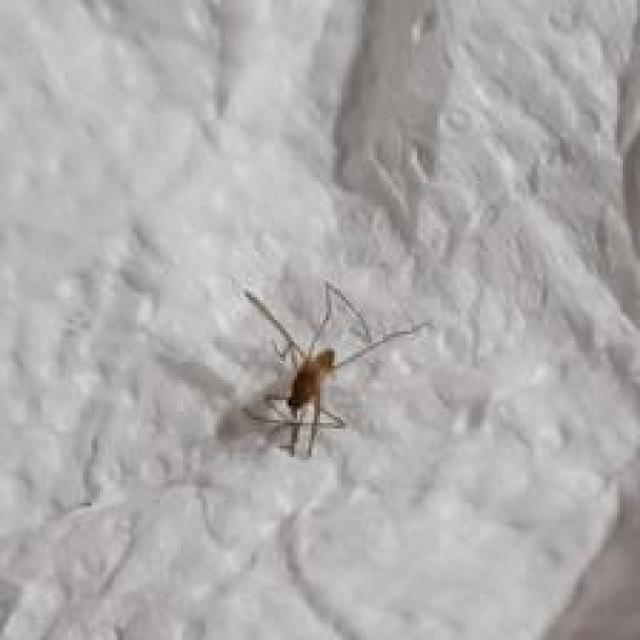Culex: (239, 278, 430, 458)
